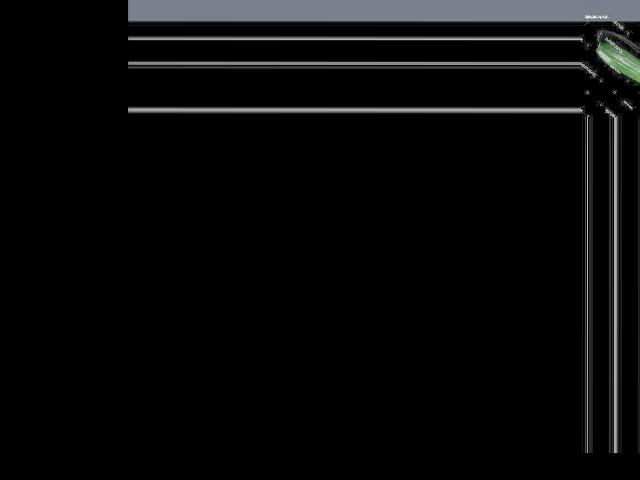cucumber: (597, 40, 640, 95)
